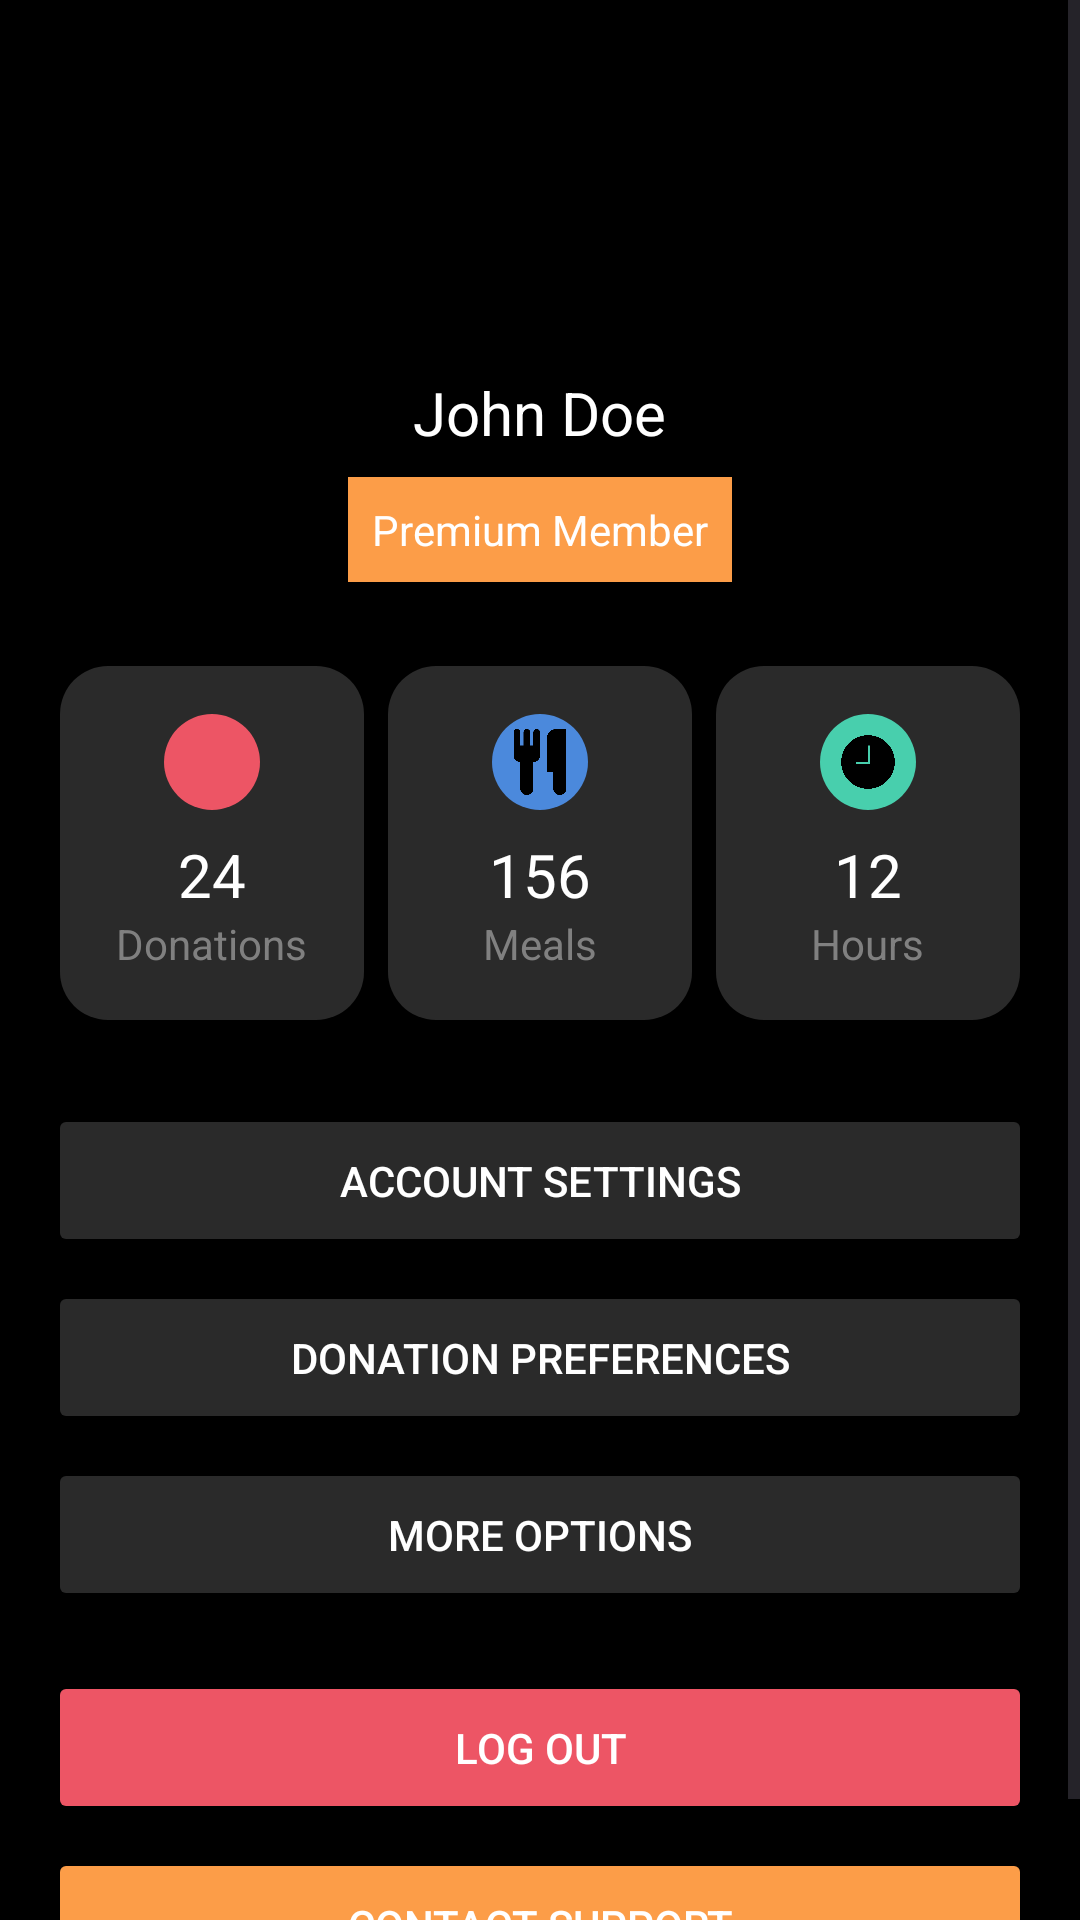

Icon click points for this 1080px x 1920px phone screenshot, format point (x, y):
clock: point (868, 762)
